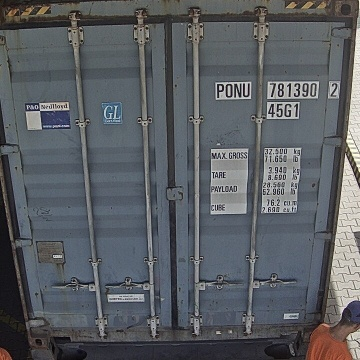serial_id: (216, 82, 339, 98)
